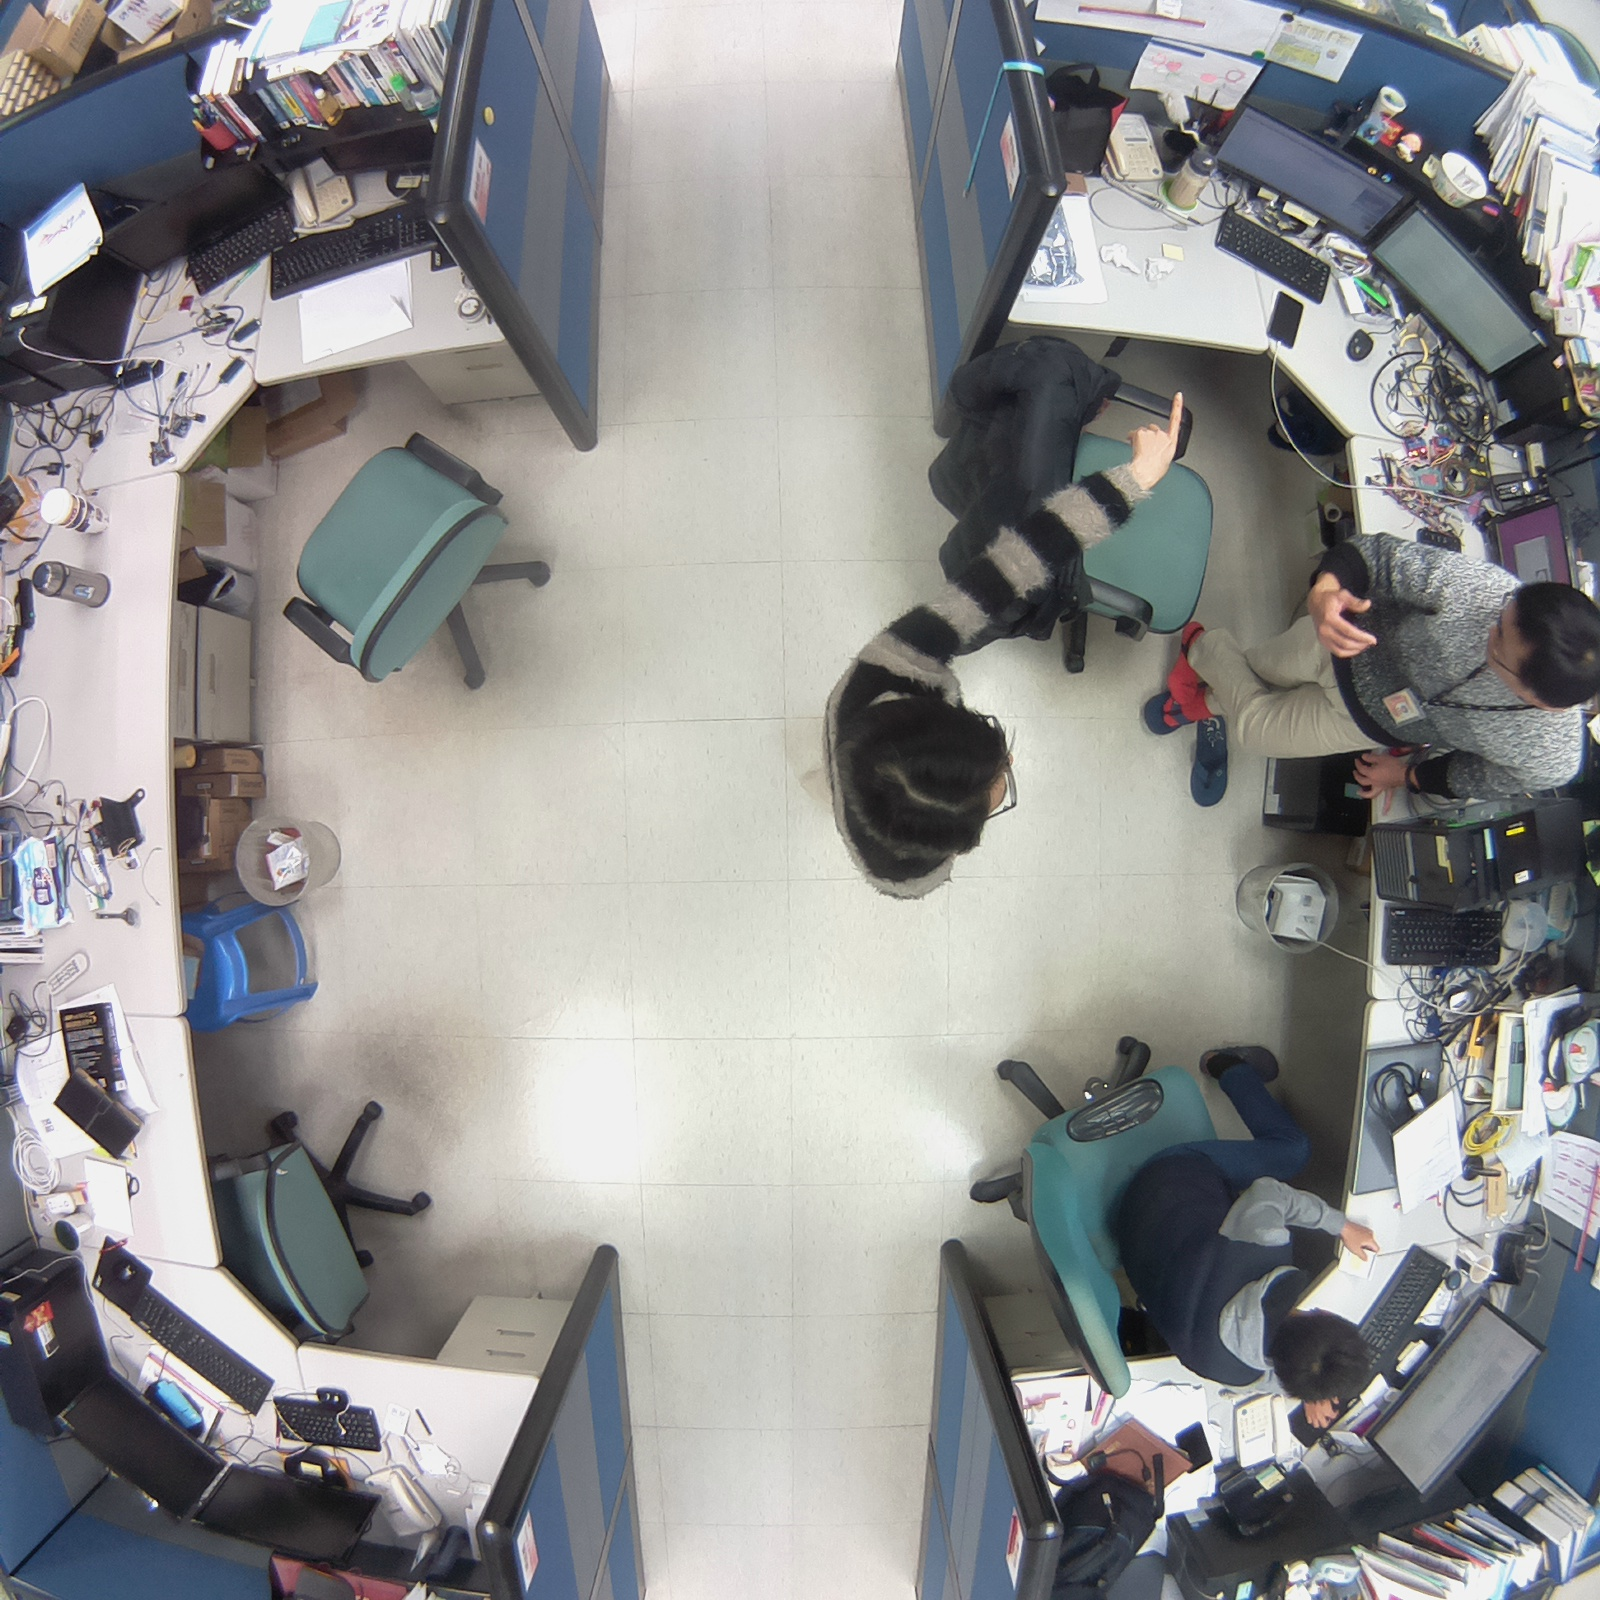chair: (922, 317, 1229, 673), (263, 396, 583, 719), (181, 1070, 447, 1360)
head: (844, 693, 1029, 868), (1261, 1302, 1383, 1419), (1502, 574, 1600, 717)
sitting: (955, 1019, 1388, 1431)
standing: (1132, 524, 1600, 814), (807, 547, 1055, 929)
